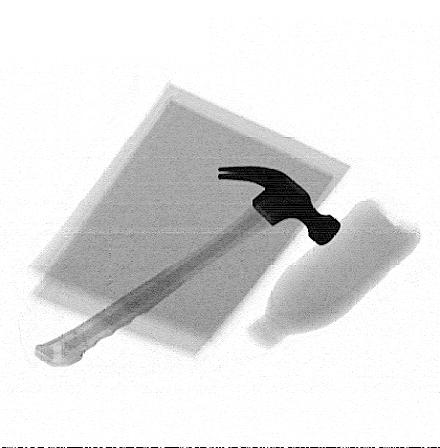Hammer: (33, 165, 342, 368)
